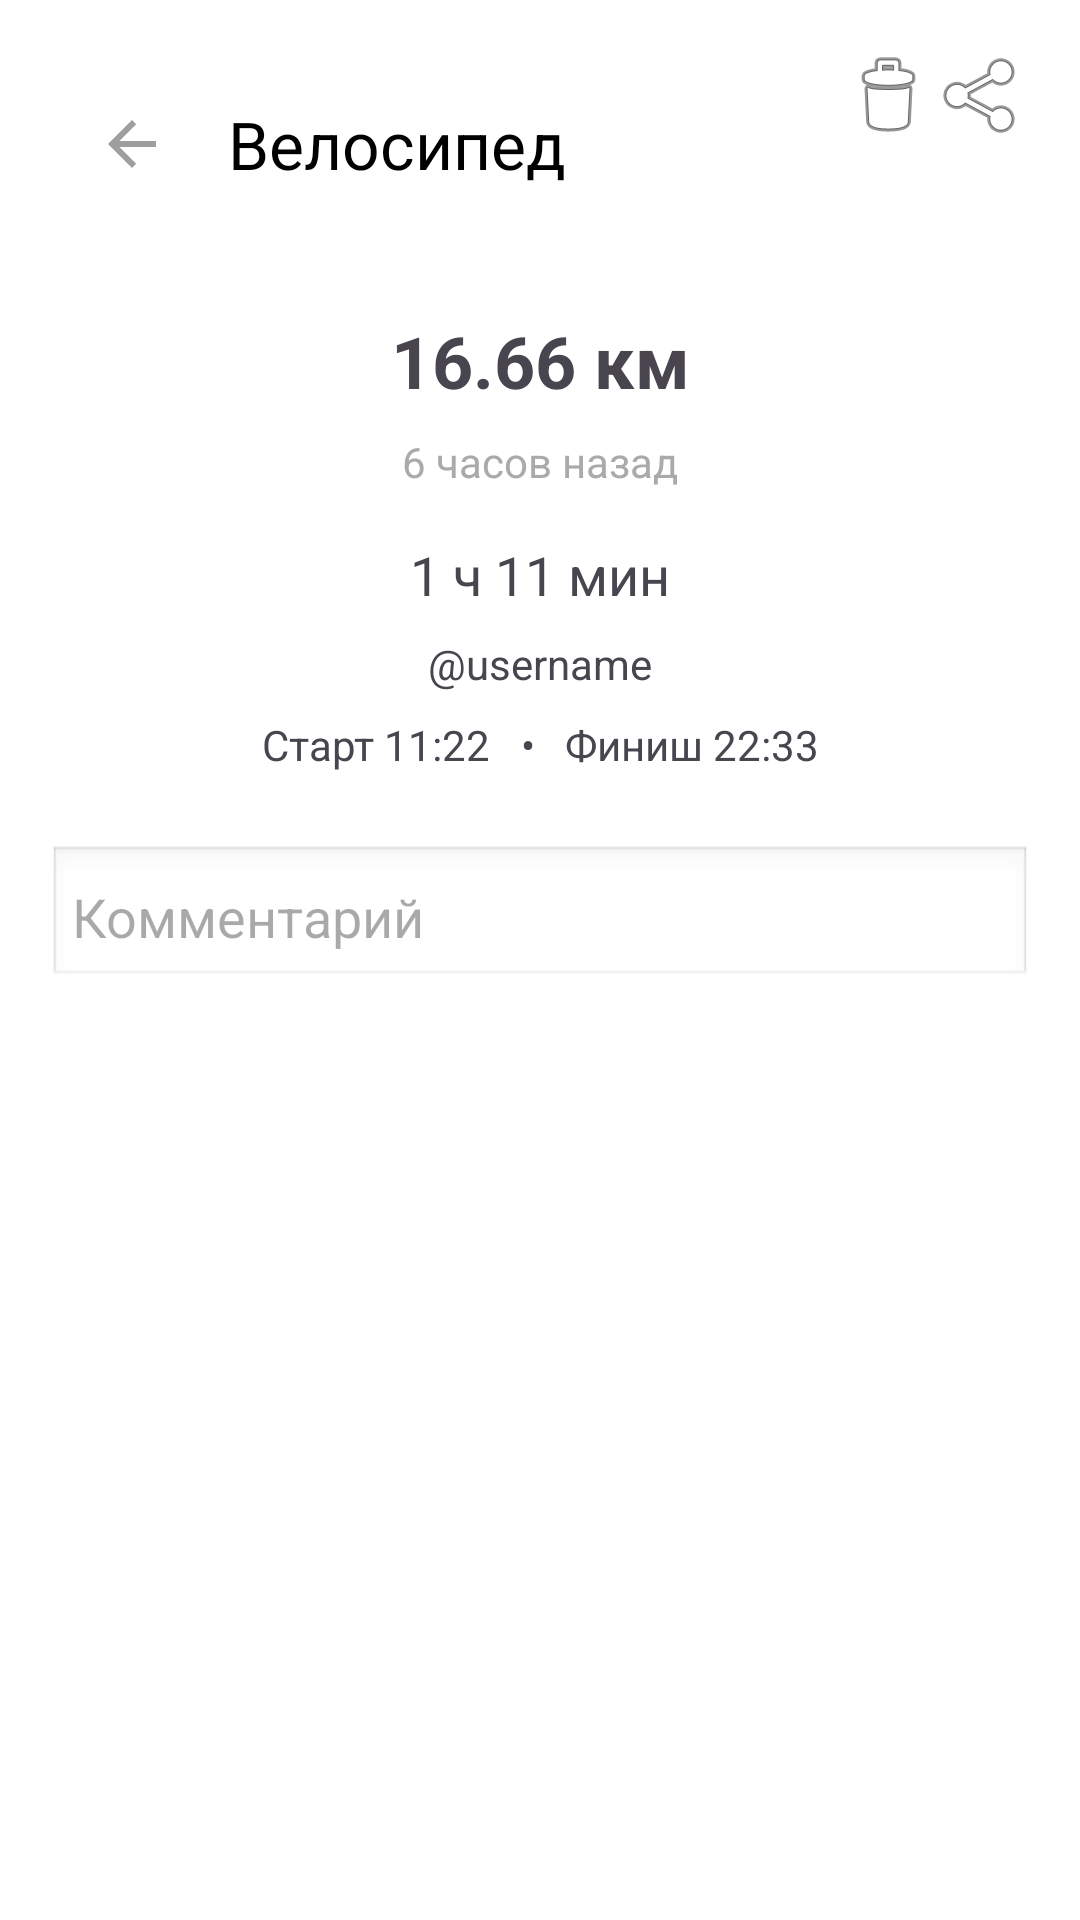

Icon bounding boxes for this 1080w x 1920h phone screenshot, format (x1, y1, x2, y2):
Поделиться: (943, 58, 1015, 133)
Удалить: (861, 57, 916, 132)
